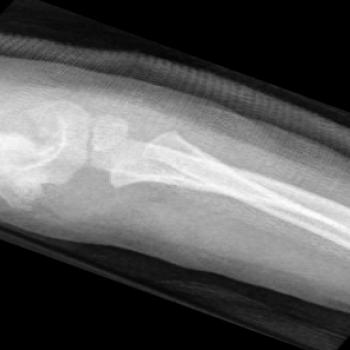Fracture: (104, 115, 180, 163)
